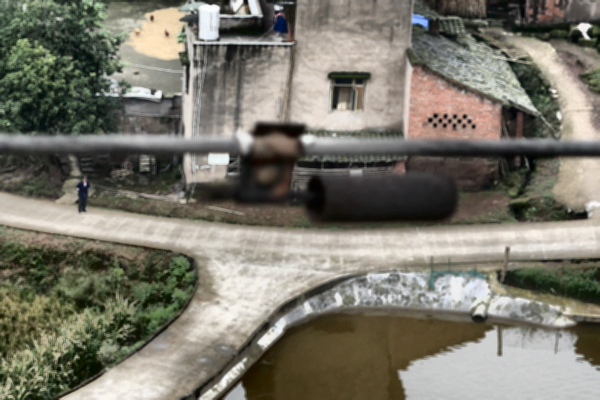damper_defect: (177, 117, 464, 226)
